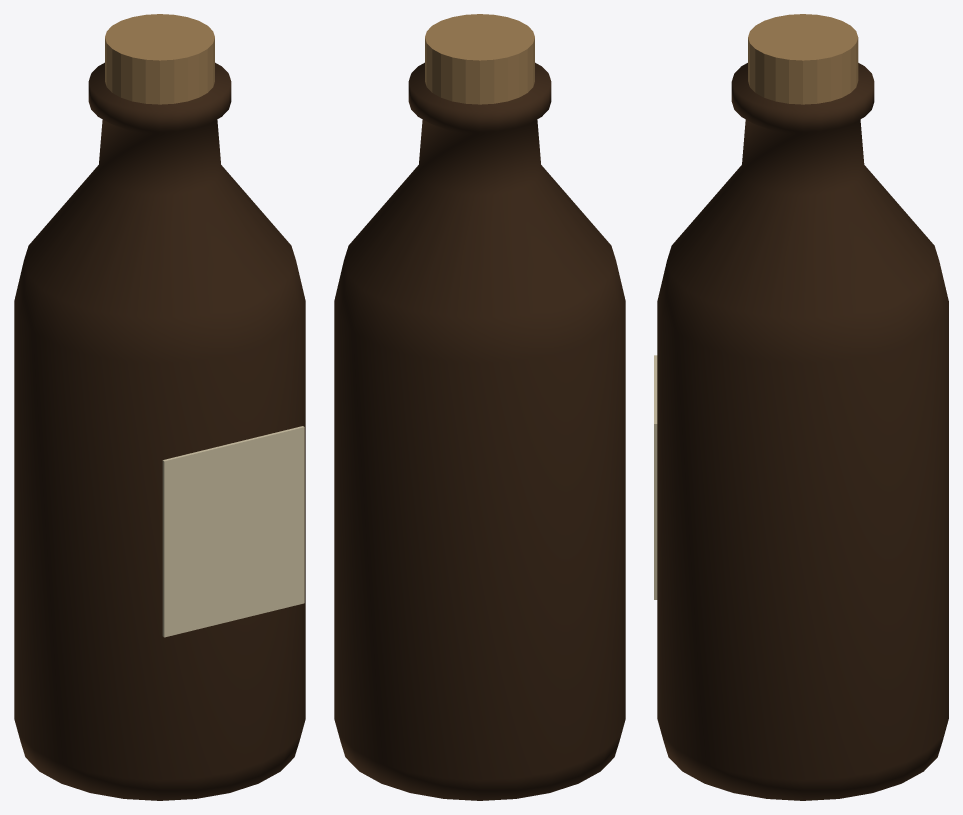
Rendered from dr_bottle.glb.
3 renders of one model, left to right at view 1: azimuth 30°, elevation 25°; view 2: azimuth 150°, elevation 25°; view 3: azimuth 270°, elevation 25°, orthographic.
Parts seen in each view (by area): view 1: dr_bottle; view 2: dr_bottle; view 3: dr_bottle.
Boxes of the visible parts, left/top/right/bottom form: dr_bottle: left=14, top=14, right=305, bottom=800; dr_bottle: left=334, top=14, right=625, bottom=800; dr_bottle: left=654, top=14, right=948, bottom=800.
Size of the model in its own units: 0.09 by 0.24 by 0.091.
